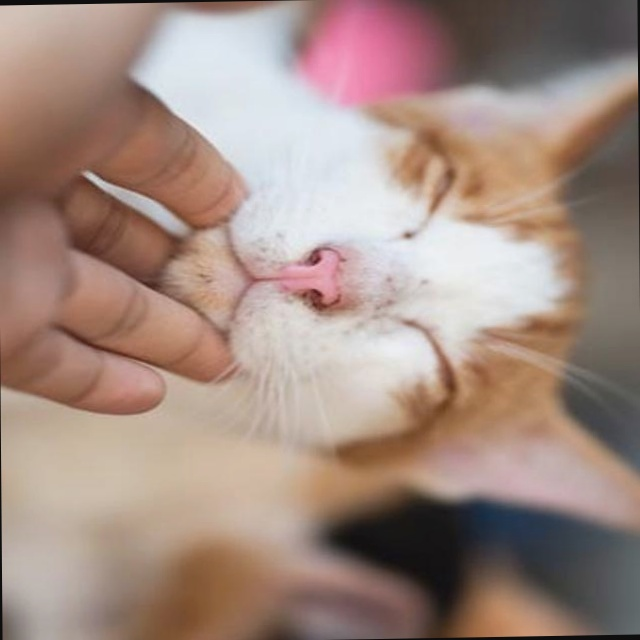acne: (347, 272, 438, 339)
